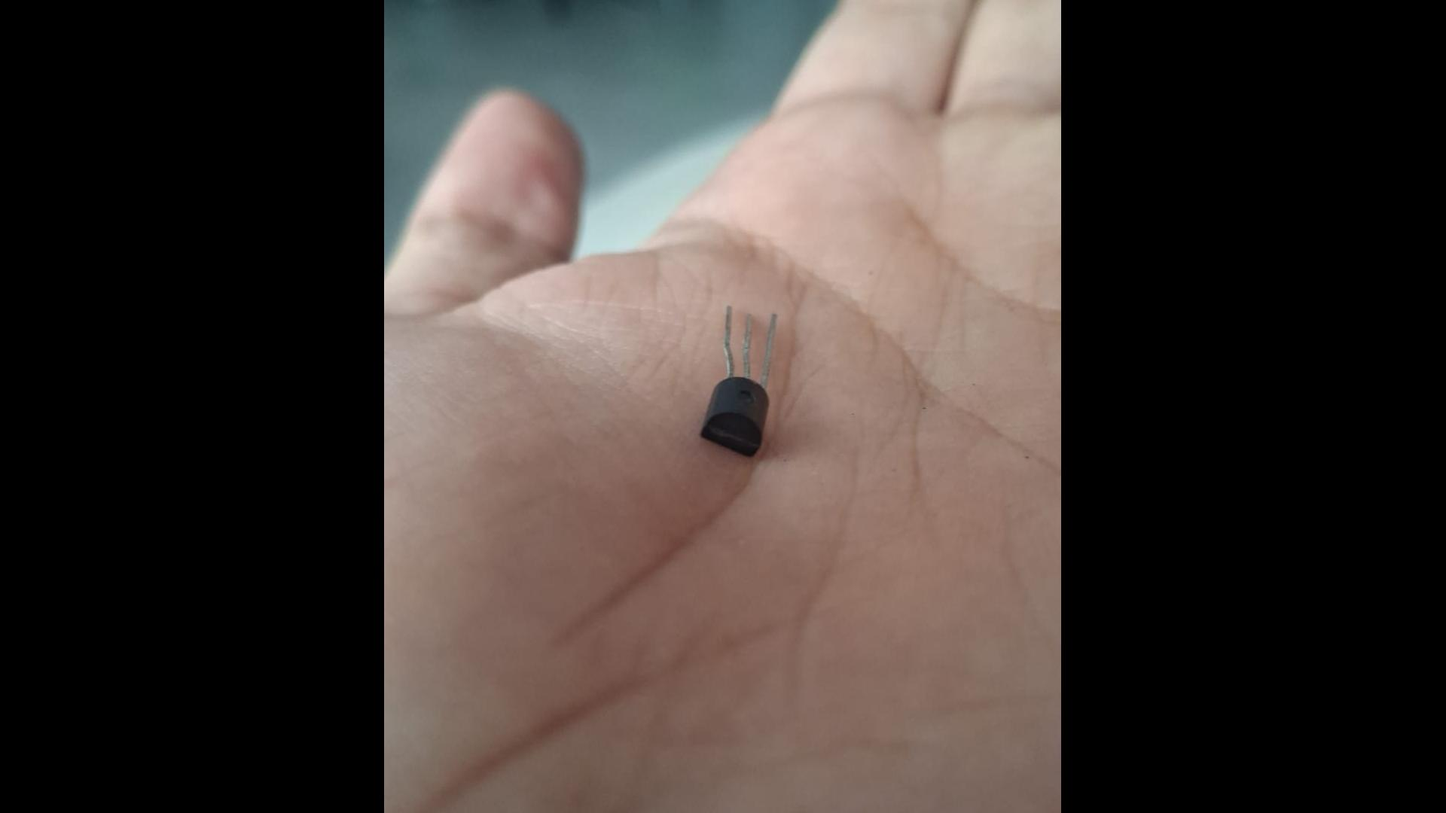Transistor: (700, 304, 778, 460)
